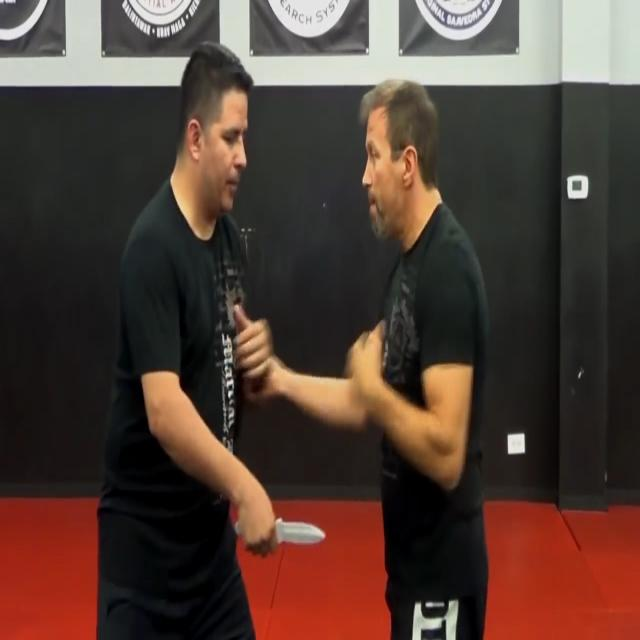knife: (235, 516, 329, 546)
